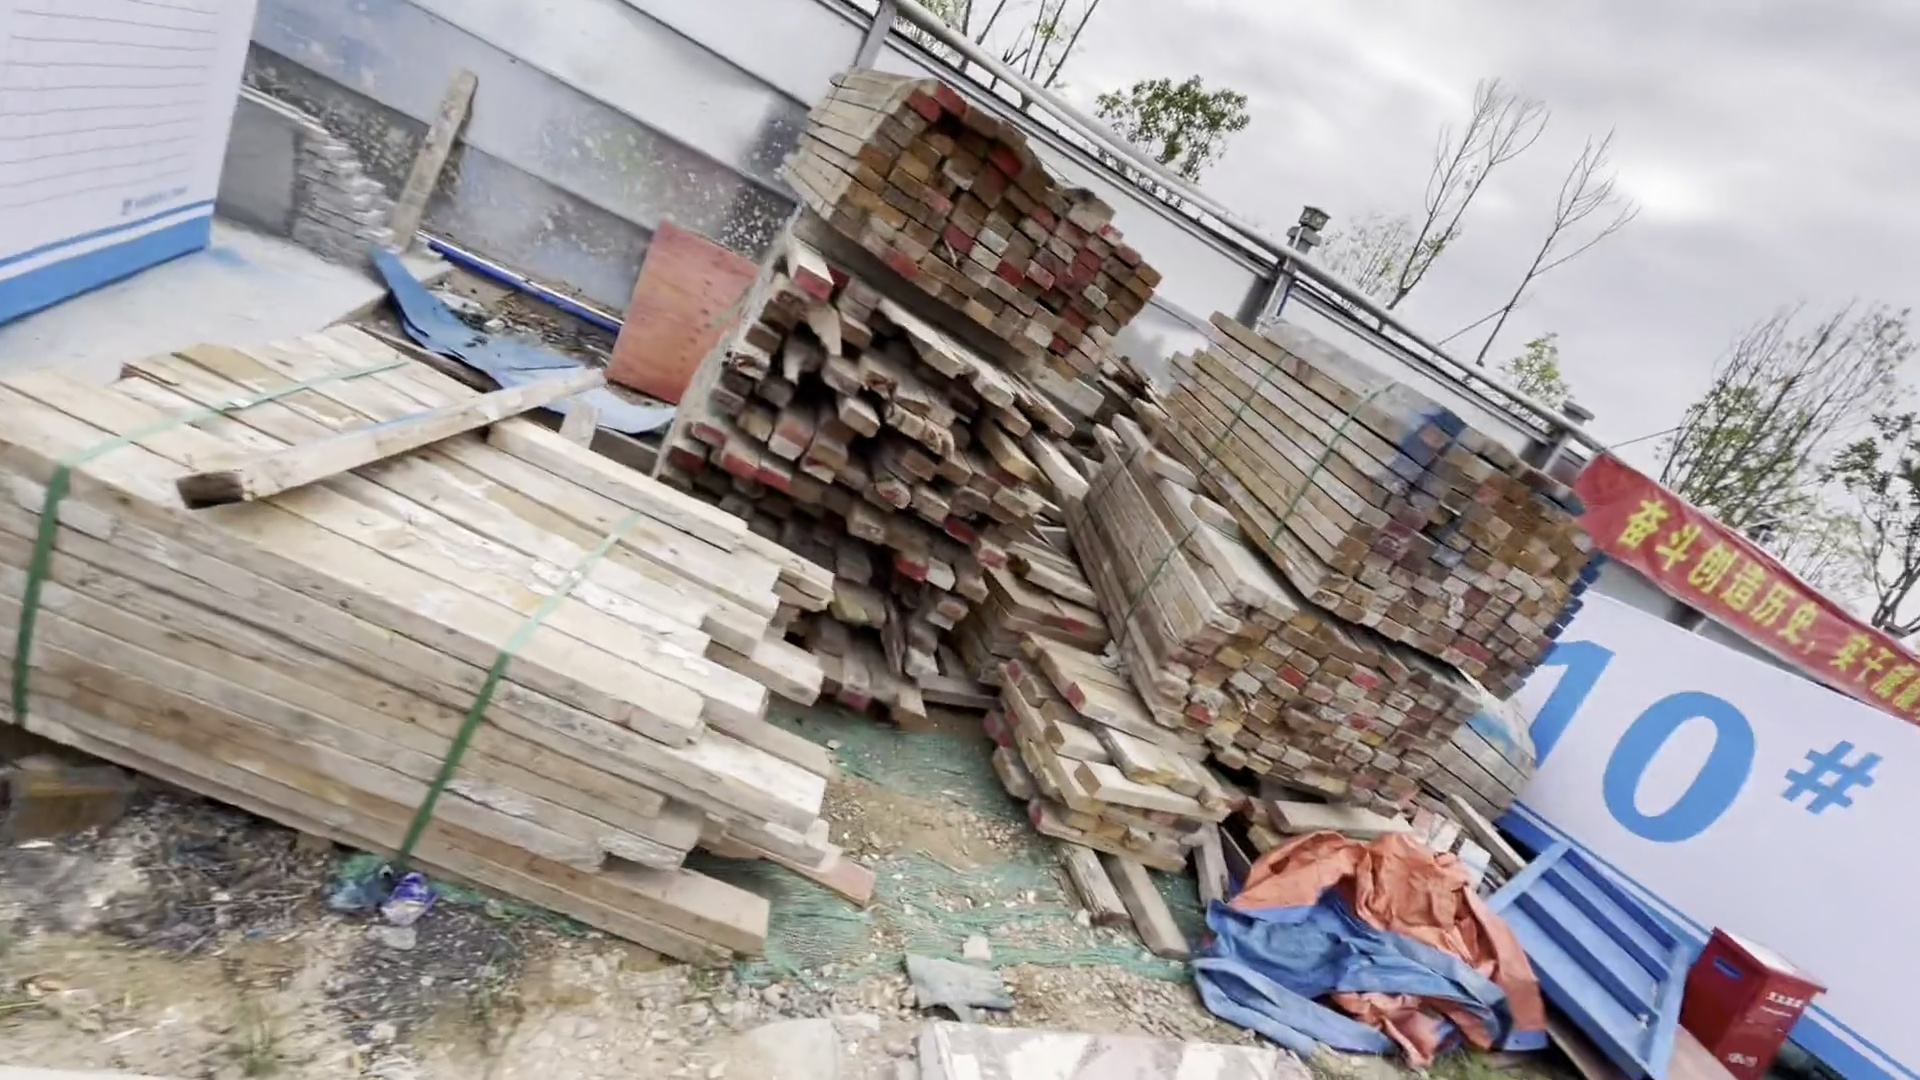slogan: (1609, 448, 1912, 695)
wood: (17, 345, 851, 934), (752, 44, 1142, 713), (1127, 295, 1578, 787)
